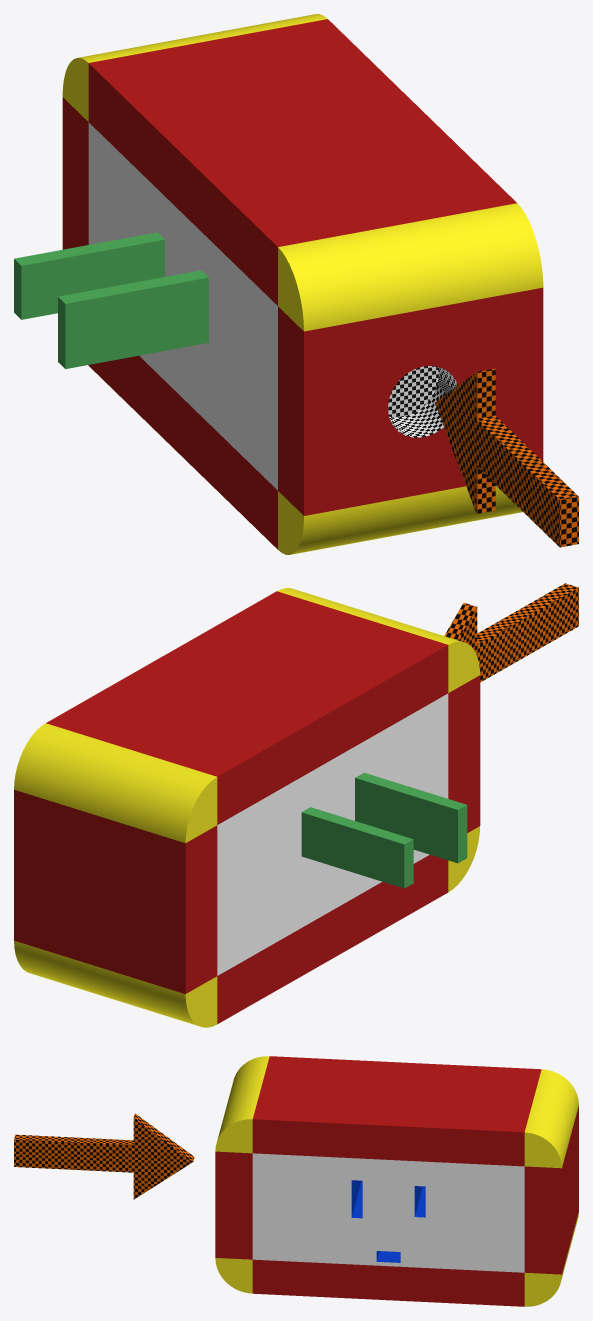
Rendered from Case_Study_SmartSwitch_5.glb.
3 views of the same model, one above another, from view 1: azimuth 30°, elevation 25°; view 2: azimuth 150°, elevation 25°; view 3: azimuth 270°, elevation 25° (orthographic). The views are drawn at different scales.
Visible parts, largest first — view 1: Part 3, Part 2, Part 5, Part 7, Part, Part 4; view 2: Part 3, Part 5, Part 2, Part 7, Part; view 3: Part 3, Part 5, Part 2, Part, Part 6.
Part boxes in pixels (<box>): Part 3: <box>62,19,543,549</box>; Part 2: <box>62,14,543,554</box>; Part 5: <box>88,122,277,490</box>; Part 7: <box>14,232,208,368</box>; Part: <box>435,368,578,547</box>; Part 4: <box>388,366,457,437</box>; Part 3: <box>14,591,480,1024</box>; Part 5: <box>217,693,448,975</box>; Part 2: <box>14,588,479,1027</box>; Part 7: <box>301,772,467,888</box>; Part: <box>444,583,578,682</box>; Part 3: <box>215,1056,578,1306</box>; Part 5: <box>252,1153,524,1272</box>; Part 2: <box>215,1056,578,1306</box>; Part: <box>14,1113,194,1199</box>; Part 6: <box>351,1180,425,1262</box>.
Bounding box in the file's own units: 0.0555 × 0.0406 × 0.1193.
7 materials, 2 textured.
